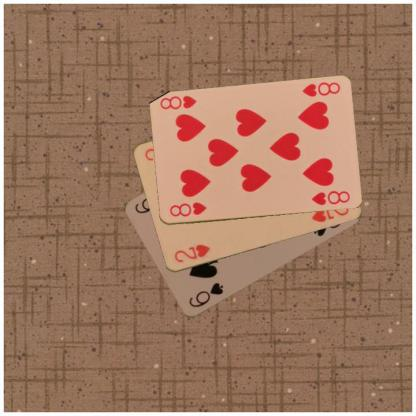2h: (172, 242, 212, 264)
6s: (186, 280, 225, 309)
8h: (299, 80, 341, 99), (167, 200, 207, 218)
